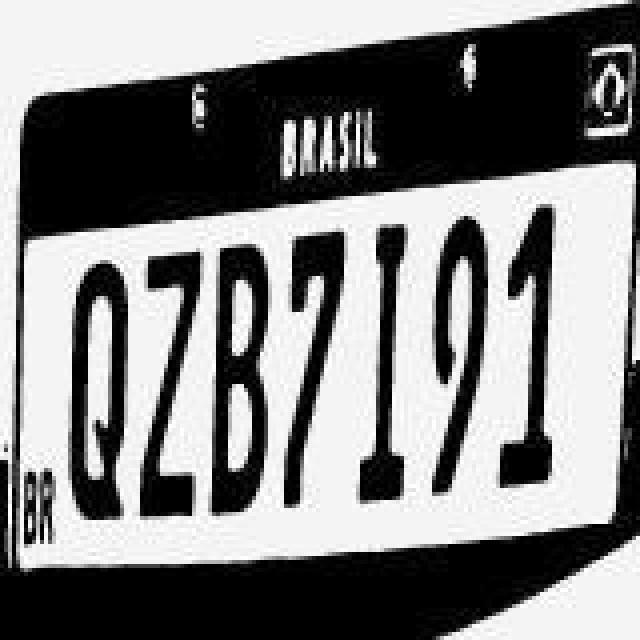1: (498, 204, 558, 492)
7: (278, 228, 346, 508)
9: (430, 216, 490, 496)
B: (208, 246, 272, 522)
I: (358, 222, 410, 506)
Q: (66, 260, 126, 524)
Z: (134, 250, 202, 518)
